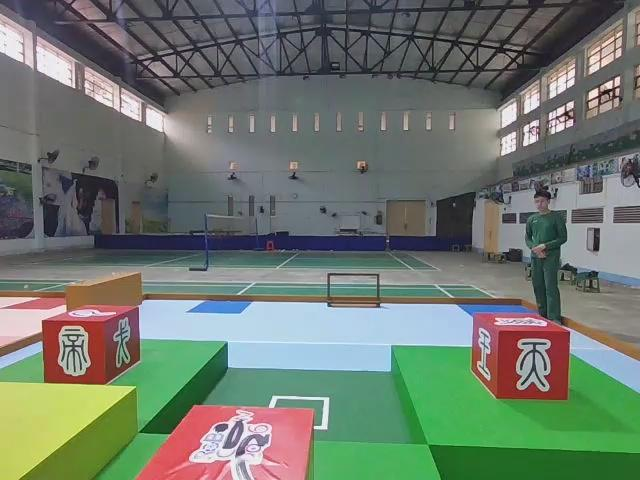R1: (135, 402, 319, 480)
R2 Fake: (472, 312, 574, 400), (41, 304, 145, 385)
